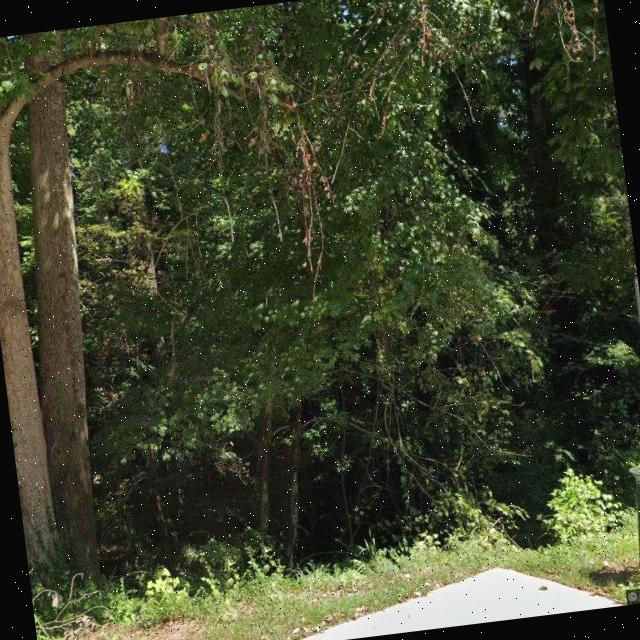trash_can: (626, 460, 640, 572)
